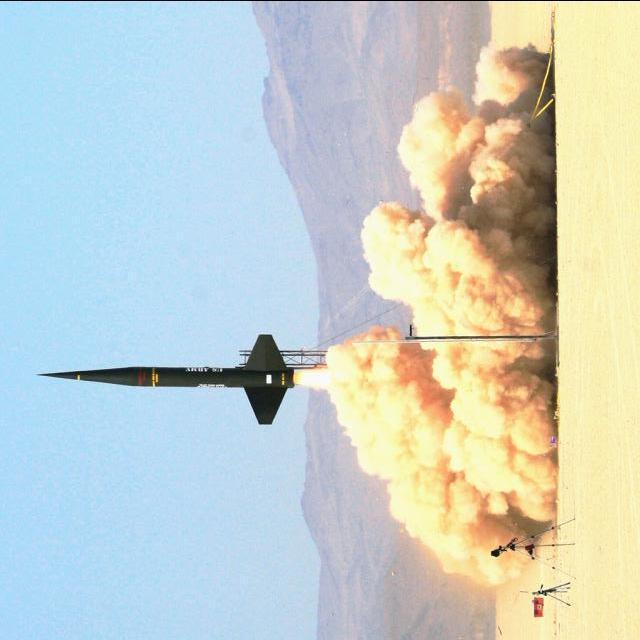Missile: (35, 331, 295, 426), (9, 362, 314, 394)
